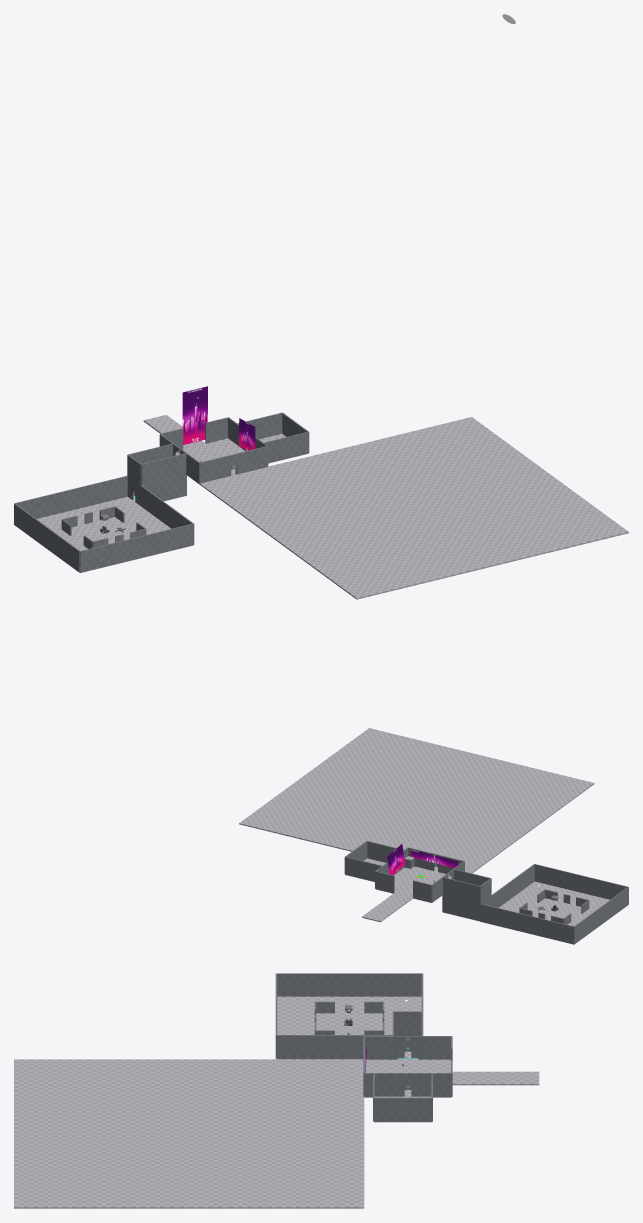
The model's file is MainScene.gltf.
3 views of the same model, one above another, from view 1: azimuth 30°, elevation 25°; view 2: azimuth 150°, elevation 25°; view 3: azimuth 270°, elevation 25° (orthographic). The views are drawn at different scales.
Visible parts, largest first — view 1: 1x2; view 2: no part large enough to name; view 3: Dun_BigDoor.
Boxes of the visible parts, x1,y1,x2,y2 form: 1x2: [182, 386, 207, 444]; Dun_BigDoor: [393, 1036, 422, 1059].
Bounding box in the file's own units: 233 × 115 × 190.
